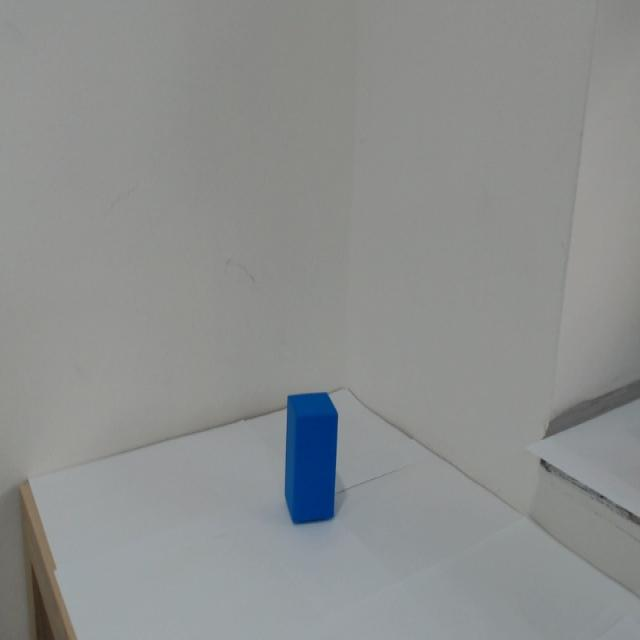cube: (267, 378, 365, 551)
